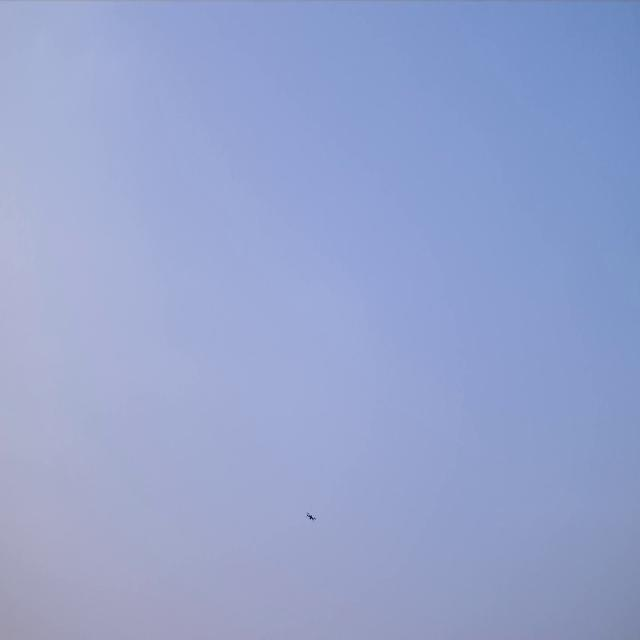UAV: (306, 511, 317, 523)
